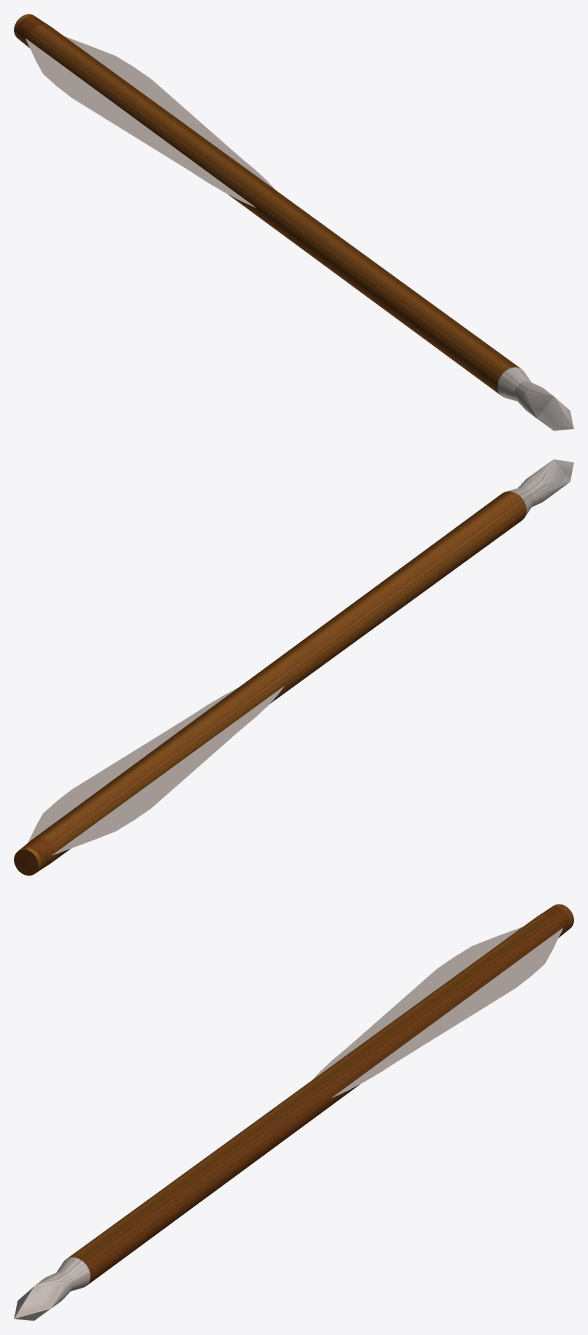
The model's file is hunting_bolt.fbx.
The picture shows the model from 3 angles, top to bottom: view 1: azimuth 30°, elevation 25°; view 2: azimuth 150°, elevation 25°; view 3: azimuth 330°, elevation 25°; orthographic projection.
Visible parts, largest first — view 1: bolt; view 2: bolt; view 3: bolt.
Part boxes in pixels (x1,y1,x2,y2): bolt: [14, 14, 573, 430]; bolt: [14, 459, 573, 875]; bolt: [14, 904, 573, 1320].
Bounding box in the file's own units: 2.87 × 1.2 × 34.53.
3 materials, 3 textured.
